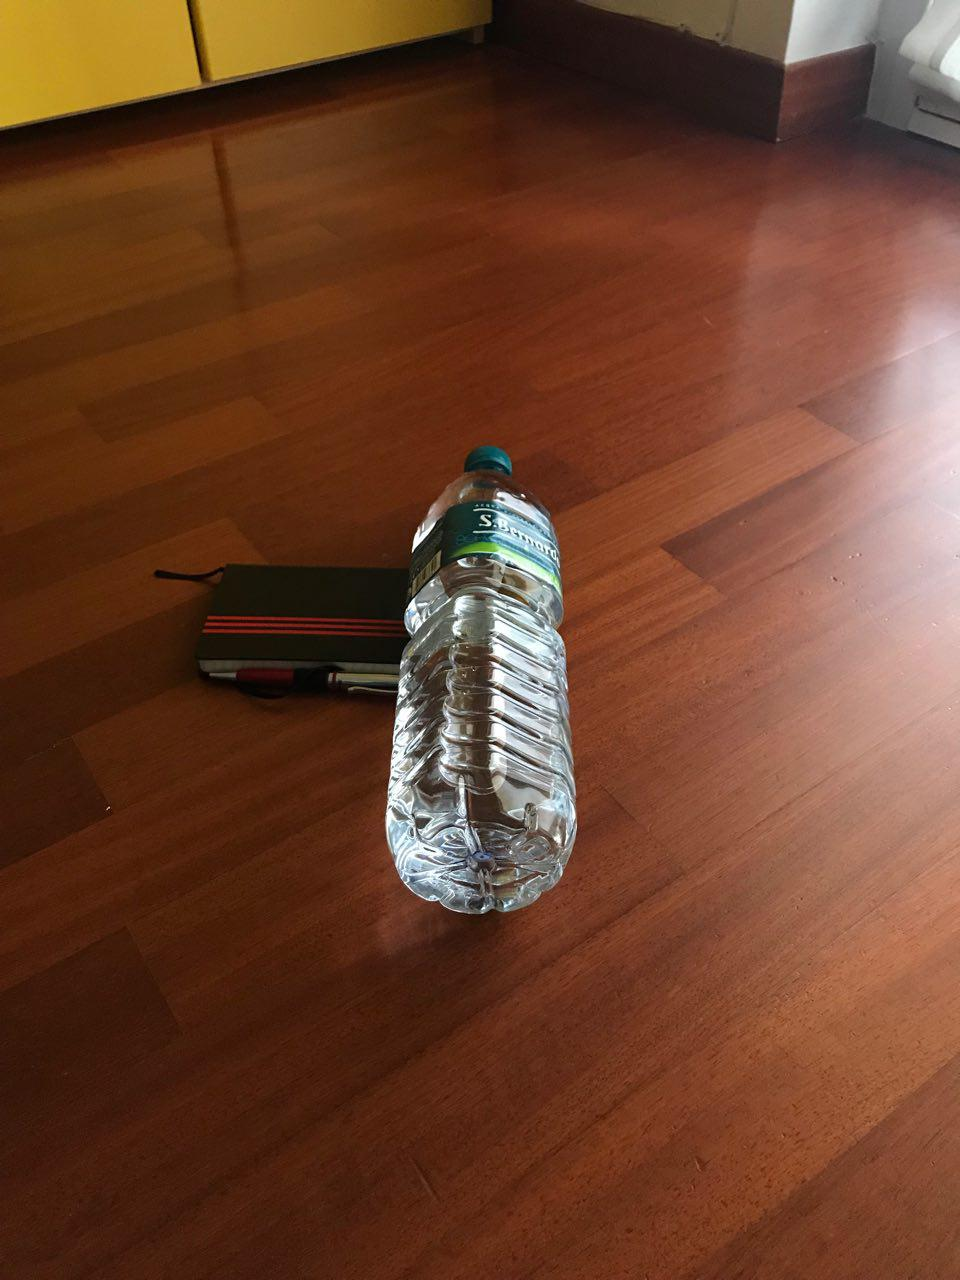san_bernardo: (381, 444, 581, 920)
